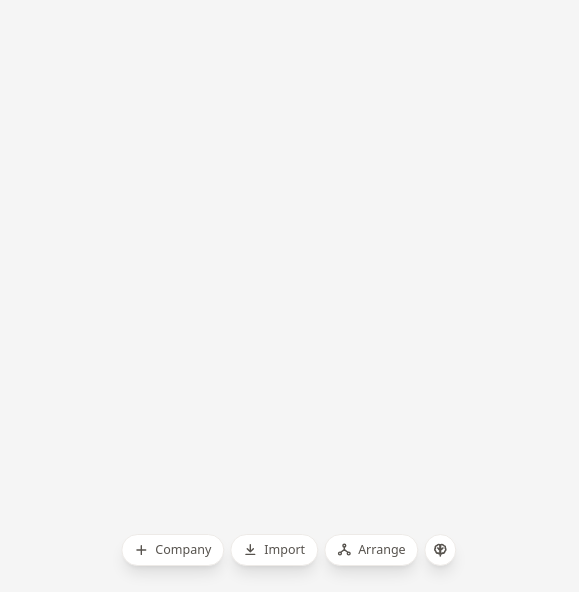
Test: the demo brain controls › starts from the brain button, shows the demo bar and stops from its Stop button
Click the button named "Grow a demo brain" at [441, 550], box 425,534 -> 457,566
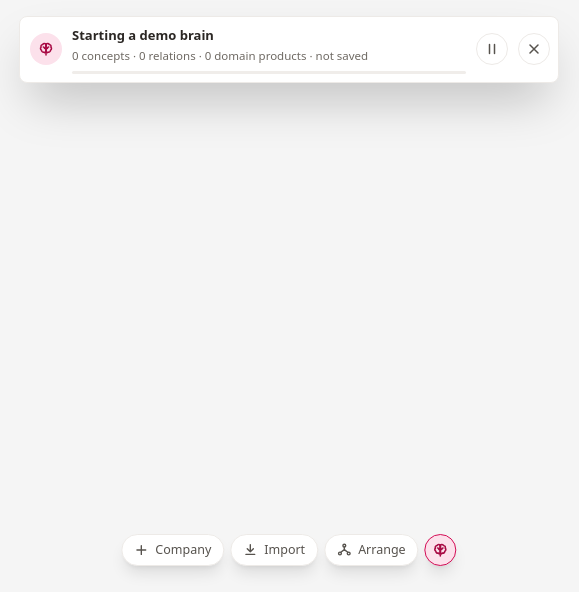
Expected: the element "demo brain" shows "Starting a demo brain", 72,26 -> 214,44
Expected: the element "demo brain" shows "not saved", 306,48 -> 368,63
Click the button with id "brainStop" at [534, 50], box 518,34 -> 550,66
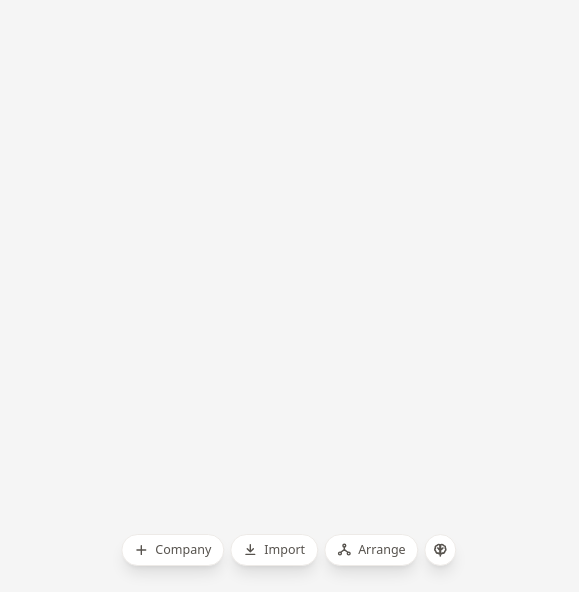
Expected: the element with id "brainBar" is gone
